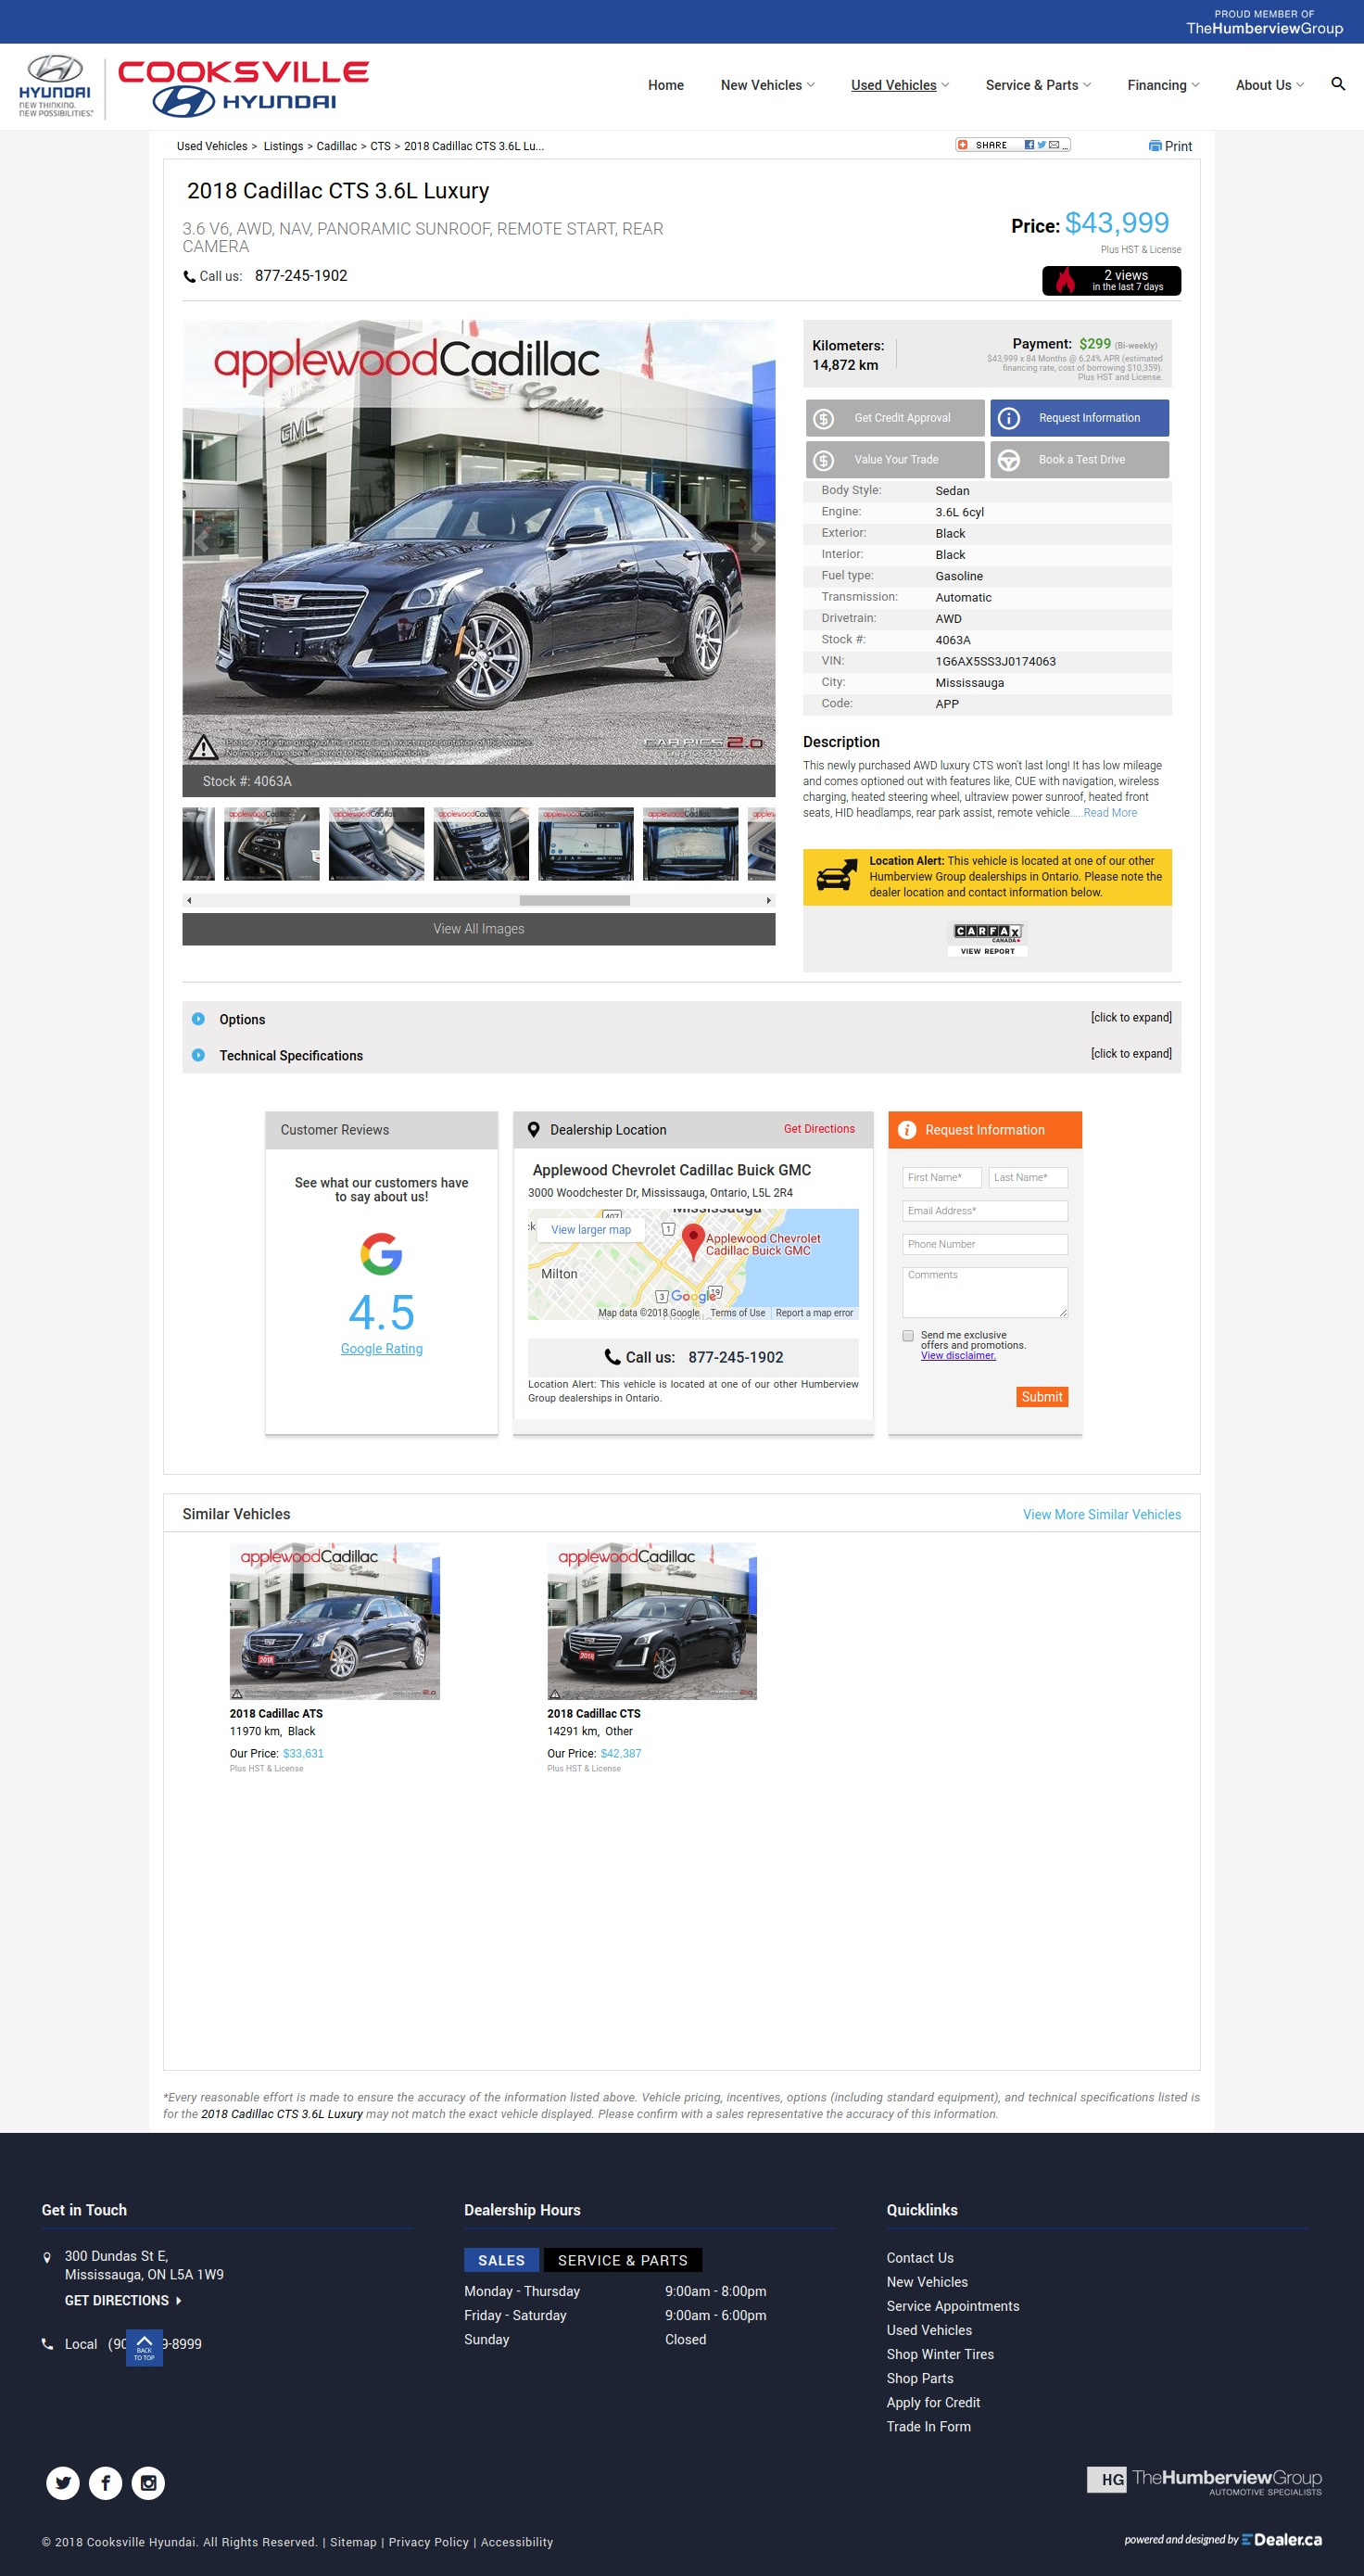car: (768, 898, 773, 906)
